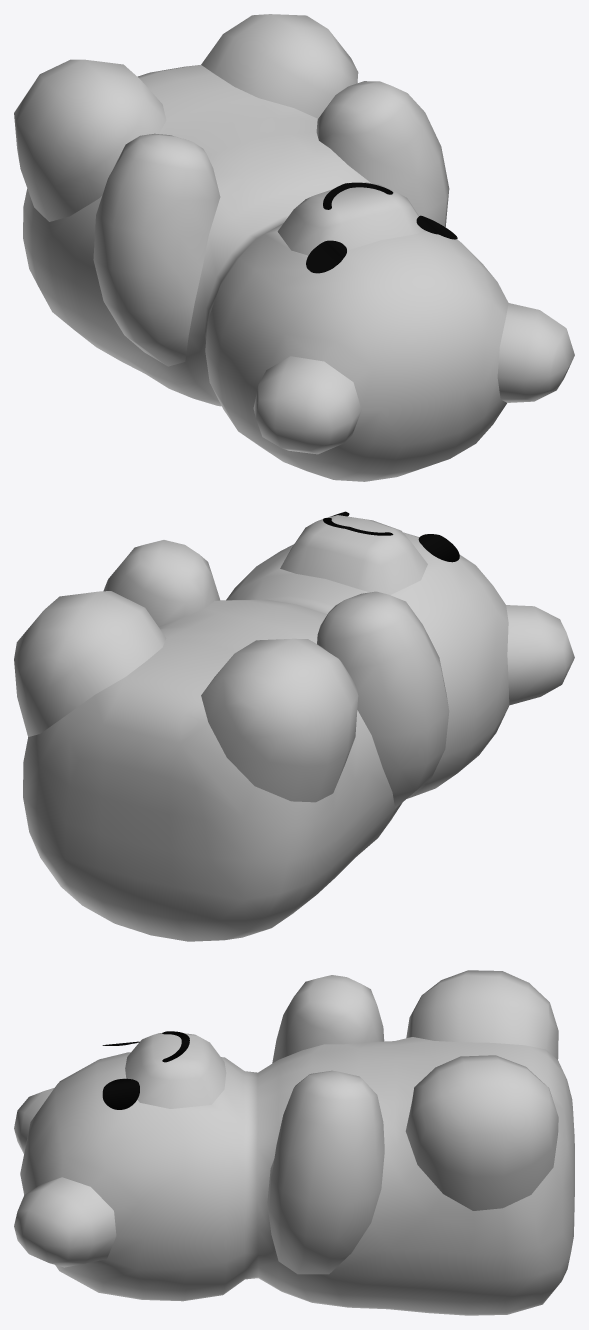
Rendered from jelly_bear_red_smile.fbx.
3 renders of one model, top to bottom at view 1: azimuth 30°, elevation 25°; view 2: azimuth 150°, elevation 25°; view 3: azimuth 270°, elevation 25°, orthographic. The views are drawn at different scales.
Visible parts, largest first — view 1: bear_red, smile; view 2: bear_red, smile; view 3: bear_red, smile.
Boxes of the visible parts, x1=… form: bear_red: x1=14, y1=14, x2=574, y2=481; smile: x1=306, y1=182, x2=457, y2=273; bear_red: x1=14, y1=515, x2=574, y2=941; smile: x1=323, y1=511, x2=459, y2=562; bear_red: x1=14, y1=970, x2=574, y2=1315; smile: x1=102, y1=1031, x2=189, y2=1109.
Size of the model in its own units: 21.17 by 18.07 by 33.21.
